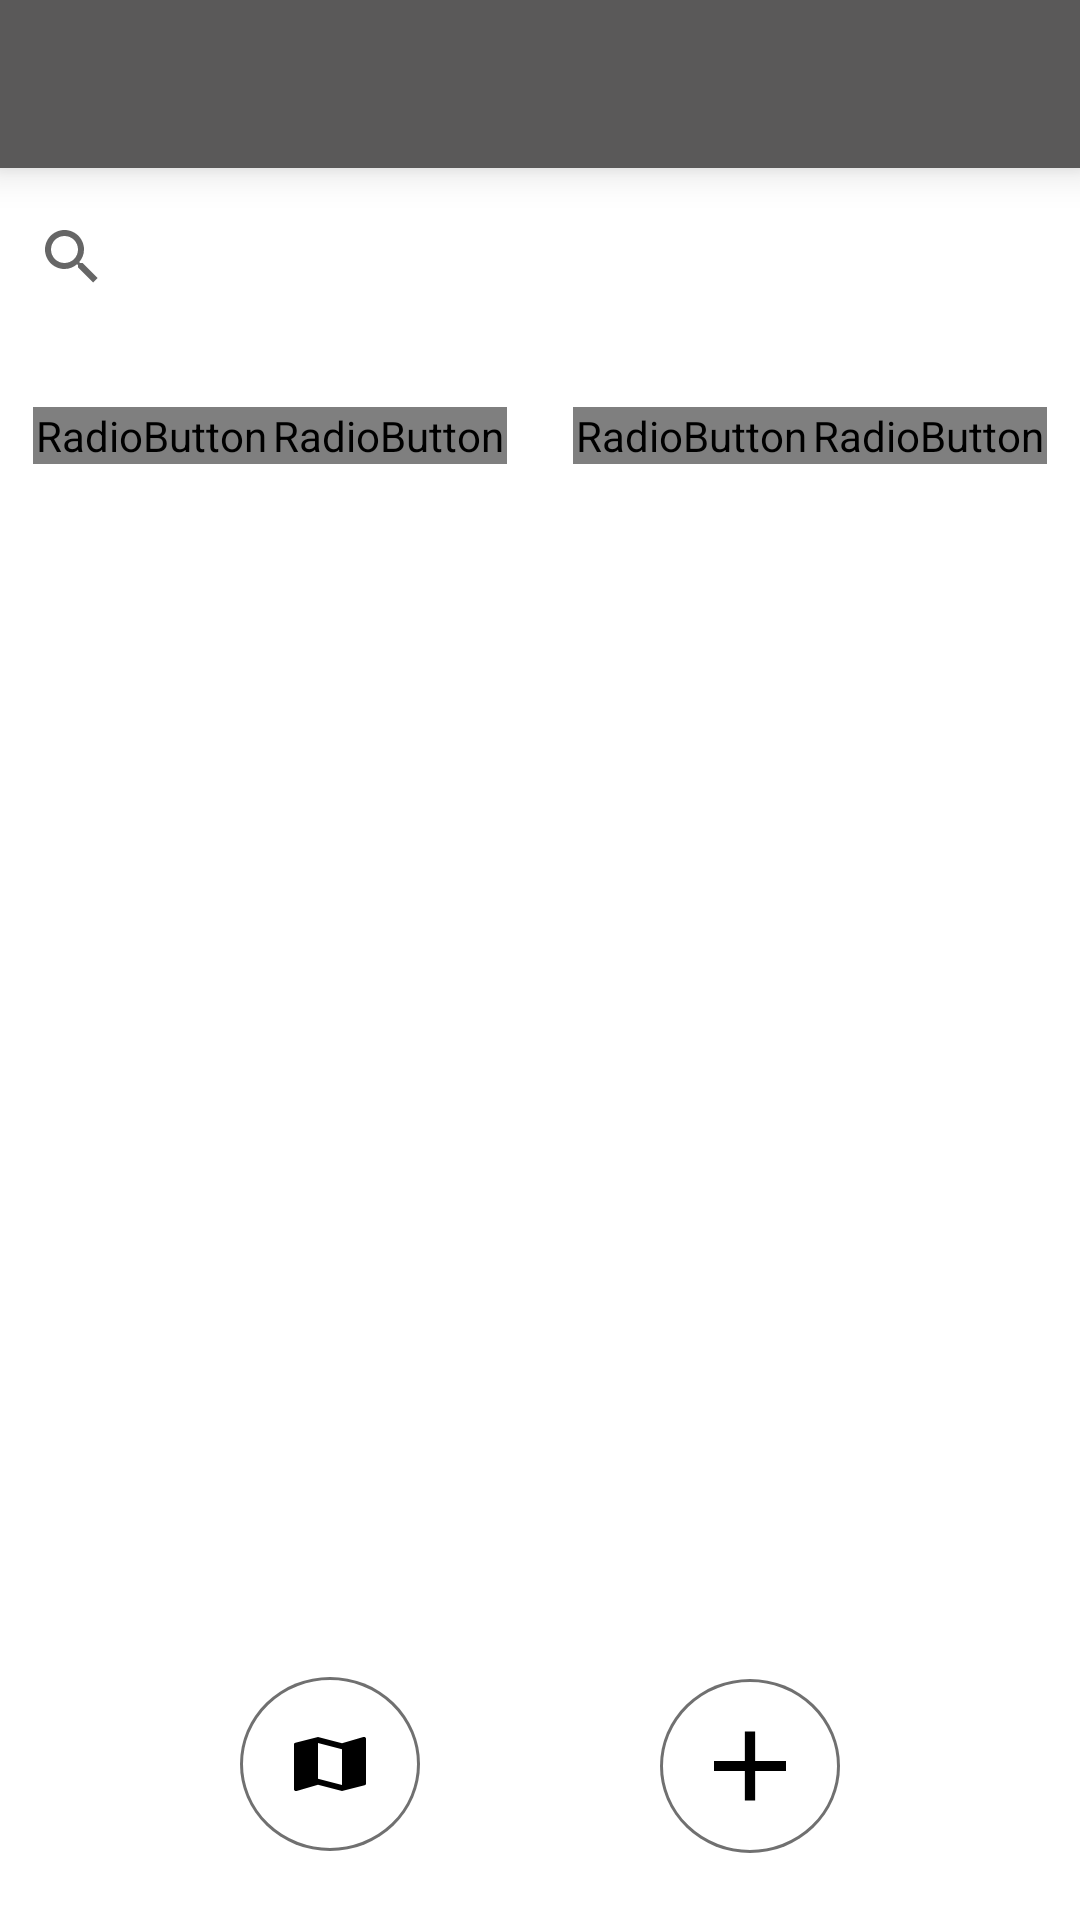

Icon click points for this 1080w x 1920h phone screenshot, format (x=x, y=y):
add: (x=750, y=1766)
map: (x=330, y=1764)
